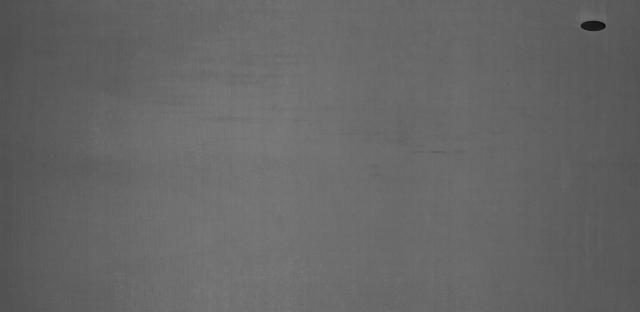punching_hole: (576, 15, 608, 34)
